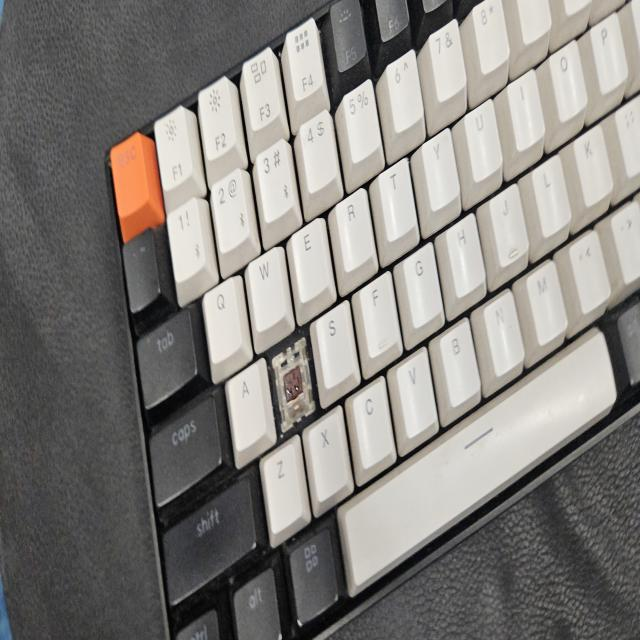C: (273, 355, 309, 405)
